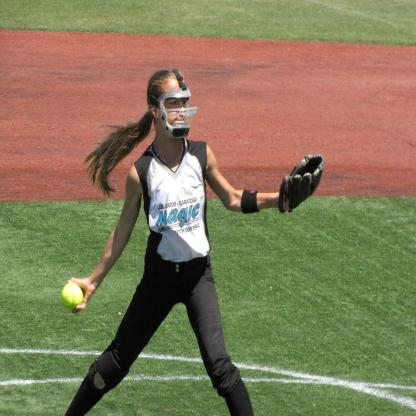Helmet: (146, 68, 199, 139)
